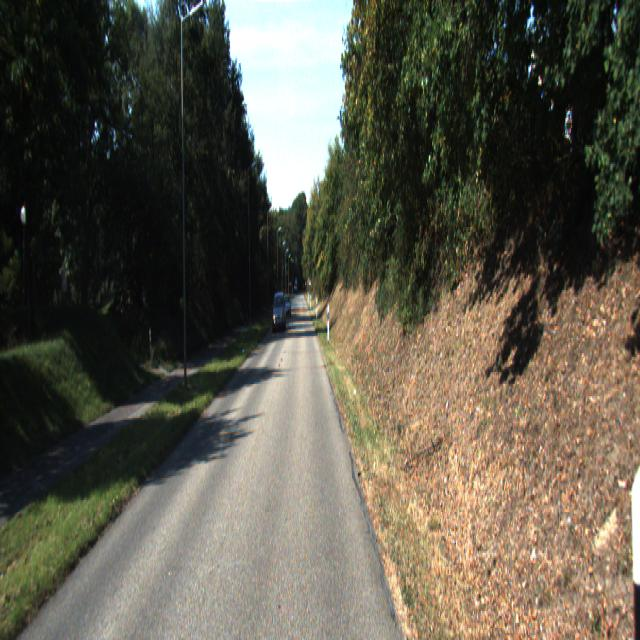Car: (272, 292, 286, 333)
